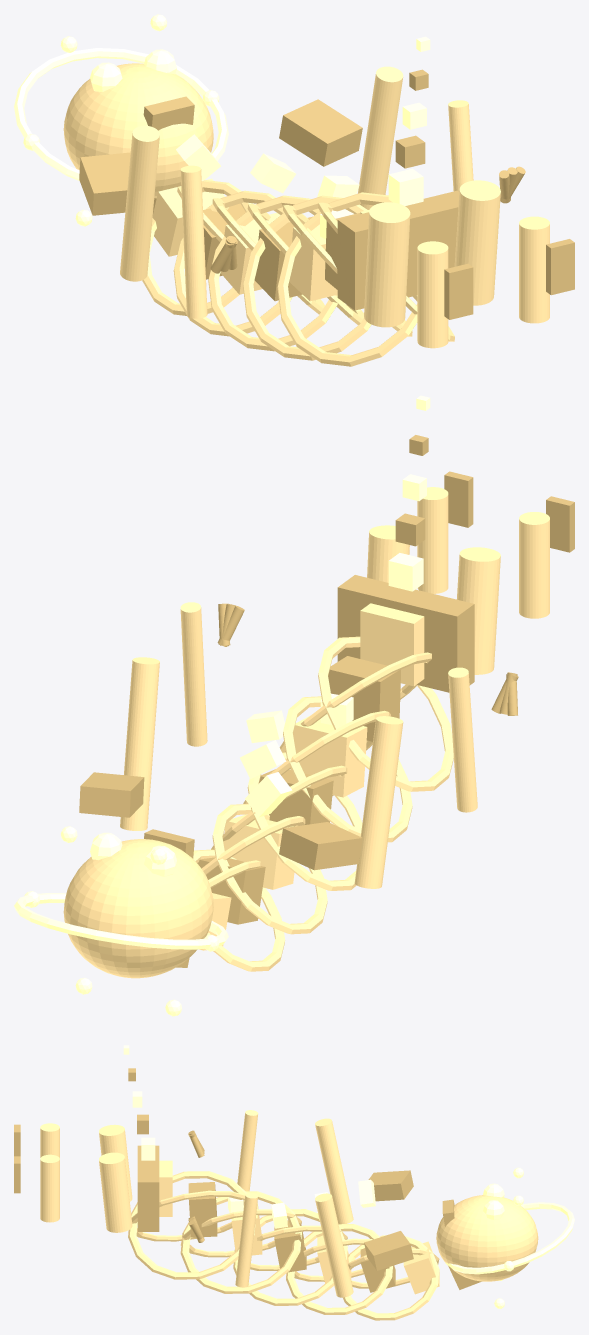
The model's file is gpt2_fossil.glb.
The picture shows the model from 3 angles, top to bottom: view 1: azimuth 30°, elevation 25°; view 2: azimuth 150°, elevation 25°; view 3: azimuth 270°, elevation 25°; orthographic projection. The views are drawn at different scales.
Parts seen in each view (by area): view 1: Skull, Pelvis, Thigh_L, Thigh_R, UpperArm_L, Rib_0_L, Shoulder_R, UpperArm_R, AttentionRing, Forearm_L, Shin_L, Rib_1_L (+27 smaller); view 2: Skull, Pelvis, UpperArm_L, UpperArm_R, Thigh_L, Vertebra_0, Shin_L, Vertebra_2, Shoulder_L, Rib_0_L, Forearm_L, Forearm_R (+23 smaller); view 3: Skull, Thigh_R, Rib_0_R, UpperArm_R, UpperArm_L, Rib_1_R, Pelvis, Rib_3_R, Shoulder_R, AttentionRing, Shin_R, Rib_4_R (+21 smaller).
Part boxes in pixels (x1,y1,x2,y2): Skull: [63, 63, 213, 198]; Pelvis: [337, 190, 459, 310]; Thigh_L: [364, 202, 410, 327]; Thigh_R: [454, 180, 500, 305]; UpperArm_L: [120, 125, 159, 281]; Rib_0_L: [277, 192, 417, 366]; Shoulder_R: [279, 99, 362, 166]; UpperArm_R: [358, 66, 403, 209]; AttentionRing: [14, 48, 228, 180]; Forearm_L: [180, 165, 207, 318]; Shin_L: [417, 241, 448, 348]; Rib_1_L: [243, 195, 371, 360]; Skull: [63, 839, 213, 978]; Pelvis: [337, 575, 474, 692]; UpperArm_L: [354, 716, 403, 888]; UpperArm_R: [120, 657, 159, 830]; Thigh_L: [456, 547, 500, 674]; Vertebra_0: [360, 603, 424, 686]; Shin_L: [519, 512, 549, 618]; Vertebra_2: [290, 716, 367, 797]; Shoulder_L: [279, 822, 362, 870]; Rib_0_L: [318, 636, 453, 791]; Forearm_L: [448, 667, 477, 812]; Forearm_R: [180, 602, 207, 746]; Skull: [436, 1195, 538, 1281]; Thigh_R: [99, 1152, 132, 1232]; Rib_0_R: [128, 1171, 256, 1279]; UpperArm_R: [315, 1193, 353, 1297]; UpperArm_L: [315, 1118, 353, 1224]; Rib_1_R: [180, 1191, 301, 1293]; Pelvis: [137, 1145, 159, 1231]; Rib_3_R: [286, 1224, 392, 1314]; Shoulder_R: [364, 1231, 413, 1270]; AttentionRing: [445, 1202, 574, 1274]; Shin_R: [40, 1154, 59, 1222]; Rib_4_R: [343, 1235, 439, 1320].
Bounding box in the file's own units: 1.03 × 1.3 × 2.57.
